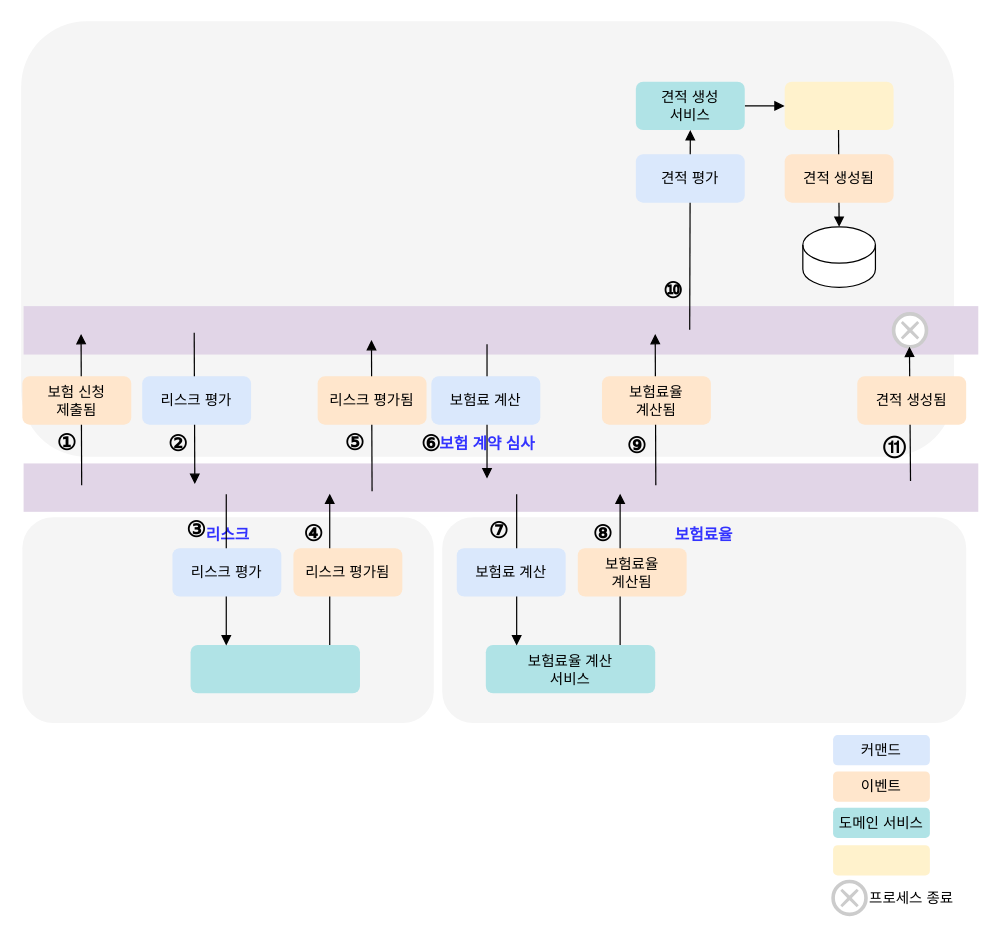
The diagram is 998 pixels wide and 938 high, and some of its shapes have lost their labels. The box of each missing label's shape, as (x1, y1, x2, y2) in pixels:
리스크 평가 서비스: (190, 644, 359, 693)
메시지 버스: (23, 463, 978, 511)
보험 증서 견적: (784, 81, 893, 129)
애그리거트: (832, 845, 929, 875)
프로세스 관리자 (프리미엄 가입 신청 프로세스): (23, 306, 978, 354)
